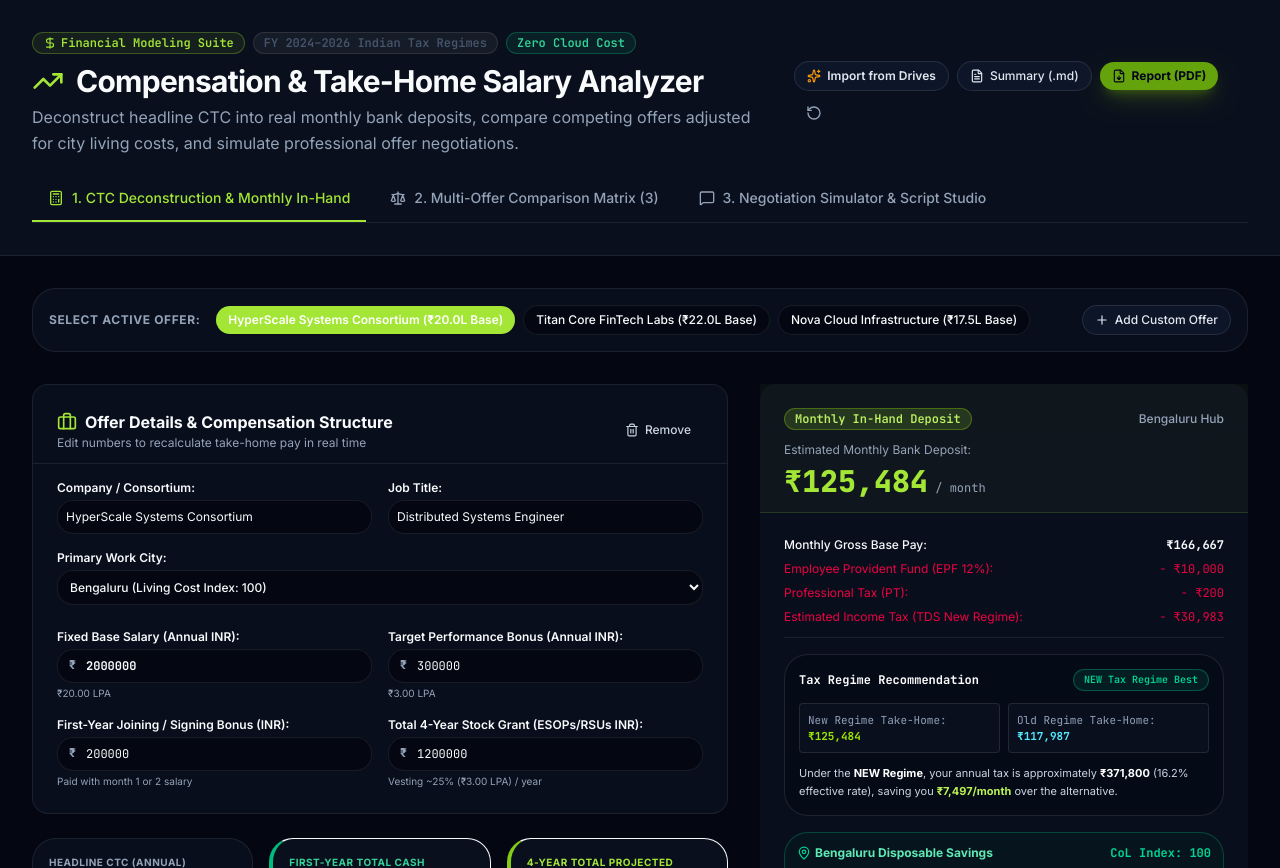
Test: CompensationAnalyzerPage › allows editing package base salary and recalculating take-home pay dynamically
Replace the text in the number field showing "2000000" below "Fixed Base Salary (Annual INR):" with "2500000" at {"x": 214, "y": 666}, box [57, 649, 372, 683]
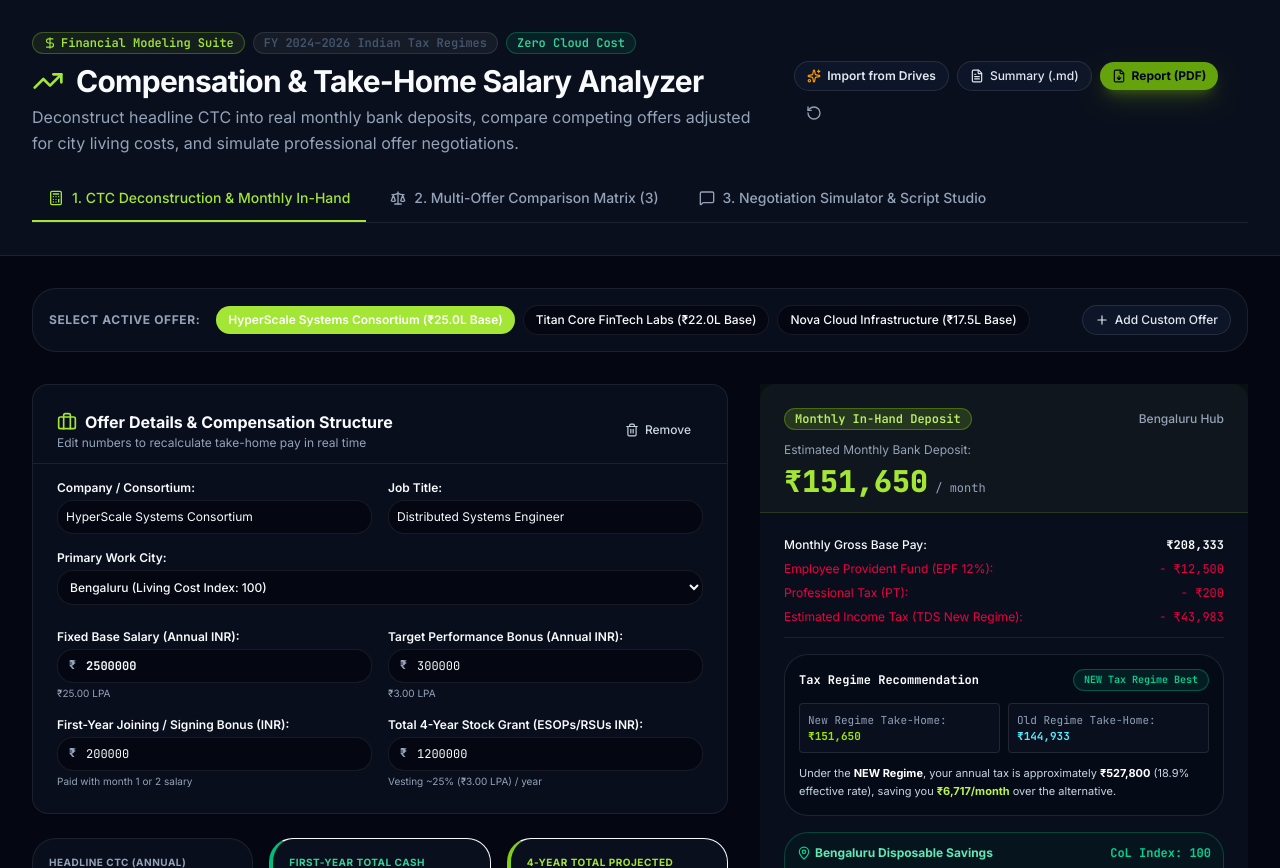
Now the text "₹25.00 LPA" is shown, box [57, 687, 110, 699]
